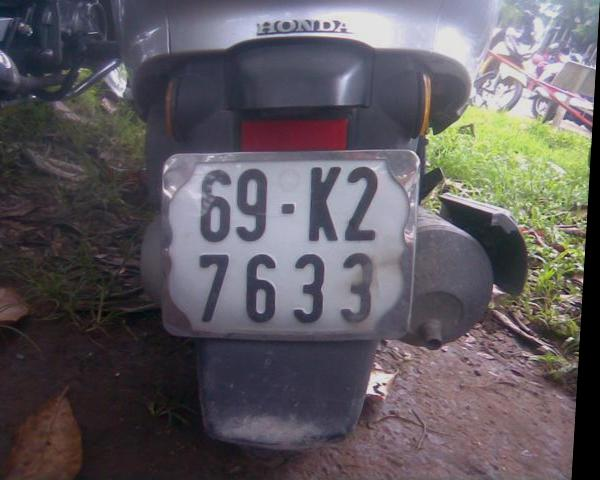License_Plate: (155, 150, 421, 337)
